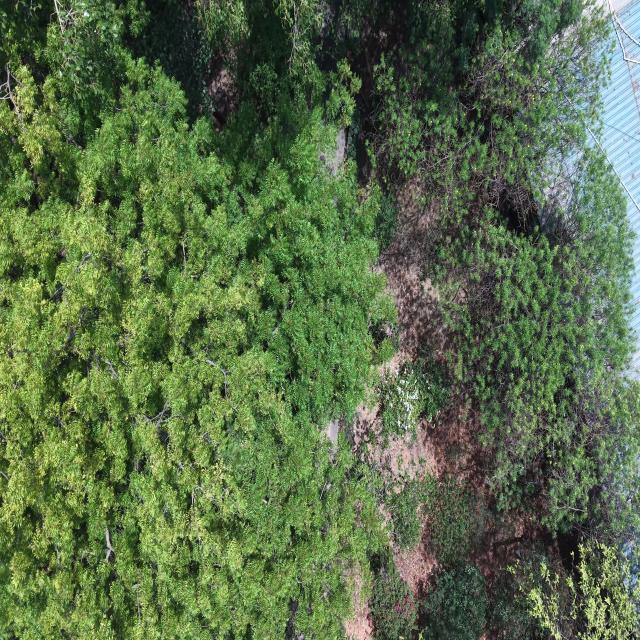DRY_AREA: (354, 395, 537, 584), (377, 181, 453, 370), (380, 184, 450, 358), (368, 403, 481, 479), (354, 407, 457, 478), (207, 48, 239, 131), (345, 568, 373, 639)
ROOFTOP_BUILDING: (600, 0, 639, 336)
VEGETATION_TREE: (0, 0, 639, 639), (0, 5, 393, 637), (371, 4, 638, 566), (374, 5, 638, 531), (510, 543, 637, 639), (385, 473, 486, 567), (377, 356, 449, 440), (426, 478, 485, 567), (422, 562, 487, 639), (371, 554, 417, 639), (486, 568, 538, 639), (385, 477, 431, 549), (374, 195, 397, 251)
